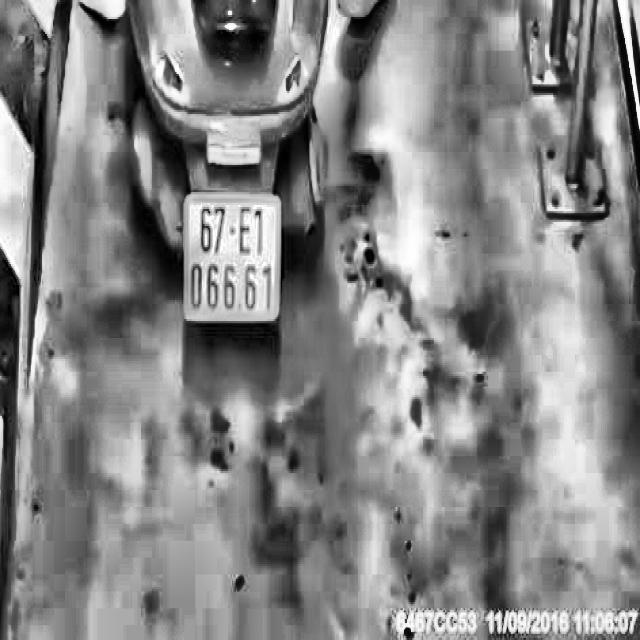plate: (180, 182, 283, 331)
